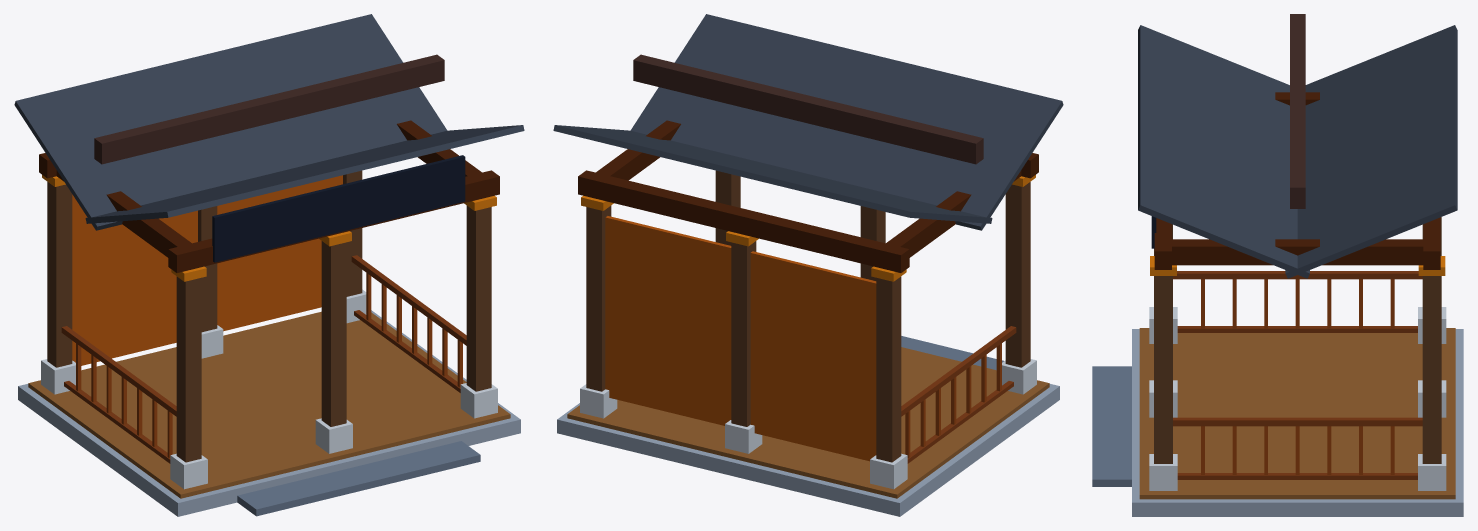
The model's file is booth_01.glb.
The picture shows the model from 3 angles, left to right: view 1: azimuth 30°, elevation 25°; view 2: azimuth 150°, elevation 25°; view 3: azimuth 270°, elevation 25°; orthographic projection. The views are drawn at different scales.
Parts seen in each view (by area): view 1: roof_slope_left, timber_deck, back_screen, CompanySignSurface, roof_ridge, stone_base, roof_slope_right, front_step, pillar_0, pillar_1, pillar_2, pillar_3 (+14 smaller); view 2: back_screen, roof_slope_right, timber_deck, roof_ridge, stone_base, beam_back, roof_slope_left, pillar_3, pillar_0, pillar_5, pillar_4, beam_left (+10 smaller); view 3: timber_deck, roof_slope_left, roof_slope_right, stone_base, front_step, beam_right, pillar_5, pillar_2, roof_ridge, rail_top_right, rail_top_left, rail_bot_left (+5 smaller).
Part boxes in pixels (x1,y1,x2,y2): roof_slope_left: (14, 14, 447, 230); timber_deck: (28, 311, 510, 498); back_screen: (72, 175, 342, 365); CompanySignSurface: (212, 155, 465, 262); roof_ridge: (94, 54, 444, 164); stone_base: (18, 310, 520, 516); roof_slope_right: (85, 125, 524, 223); front_step: (237, 441, 480, 516); pillar_0: (176, 276, 201, 462); pillar_1: (321, 241, 346, 426); pillar_2: (466, 205, 491, 391); pillar_3: (47, 182, 72, 367); back_screen: (605, 216, 876, 461); roof_slope_right: (630, 14, 1063, 230); timber_deck: (567, 347, 1049, 498); roof_ridge: (633, 54, 983, 164); stone_base: (557, 384, 1059, 516); beam_back: (578, 170, 909, 272); roof_slope_left: (553, 125, 992, 223); pillar_3: (876, 276, 901, 462); pillar_0: (1005, 182, 1030, 367); pillar_5: (586, 205, 611, 391); pillar_4: (731, 241, 756, 426); beam_left: (879, 170, 1021, 257); timber_deck: (1139, 328, 1455, 499); roof_slope_left: (1285, 25, 1457, 278); roof_slope_right: (1138, 25, 1309, 278); stone_base: (1132, 329, 1463, 516); front_step: (1092, 366, 1131, 486); beam_right: (1155, 239, 1439, 265); pillar_5: (1422, 276, 1441, 463); pillar_2: (1154, 276, 1172, 463); roof_ridge: (1290, 14, 1305, 208); rail_top_right: (1173, 417, 1422, 426); rail_top_left: (1173, 271, 1422, 279); rail_bot_left: (1177, 326, 1417, 332).
Size of the model in its own units: 5.4 by 4.6 by 4.7.
